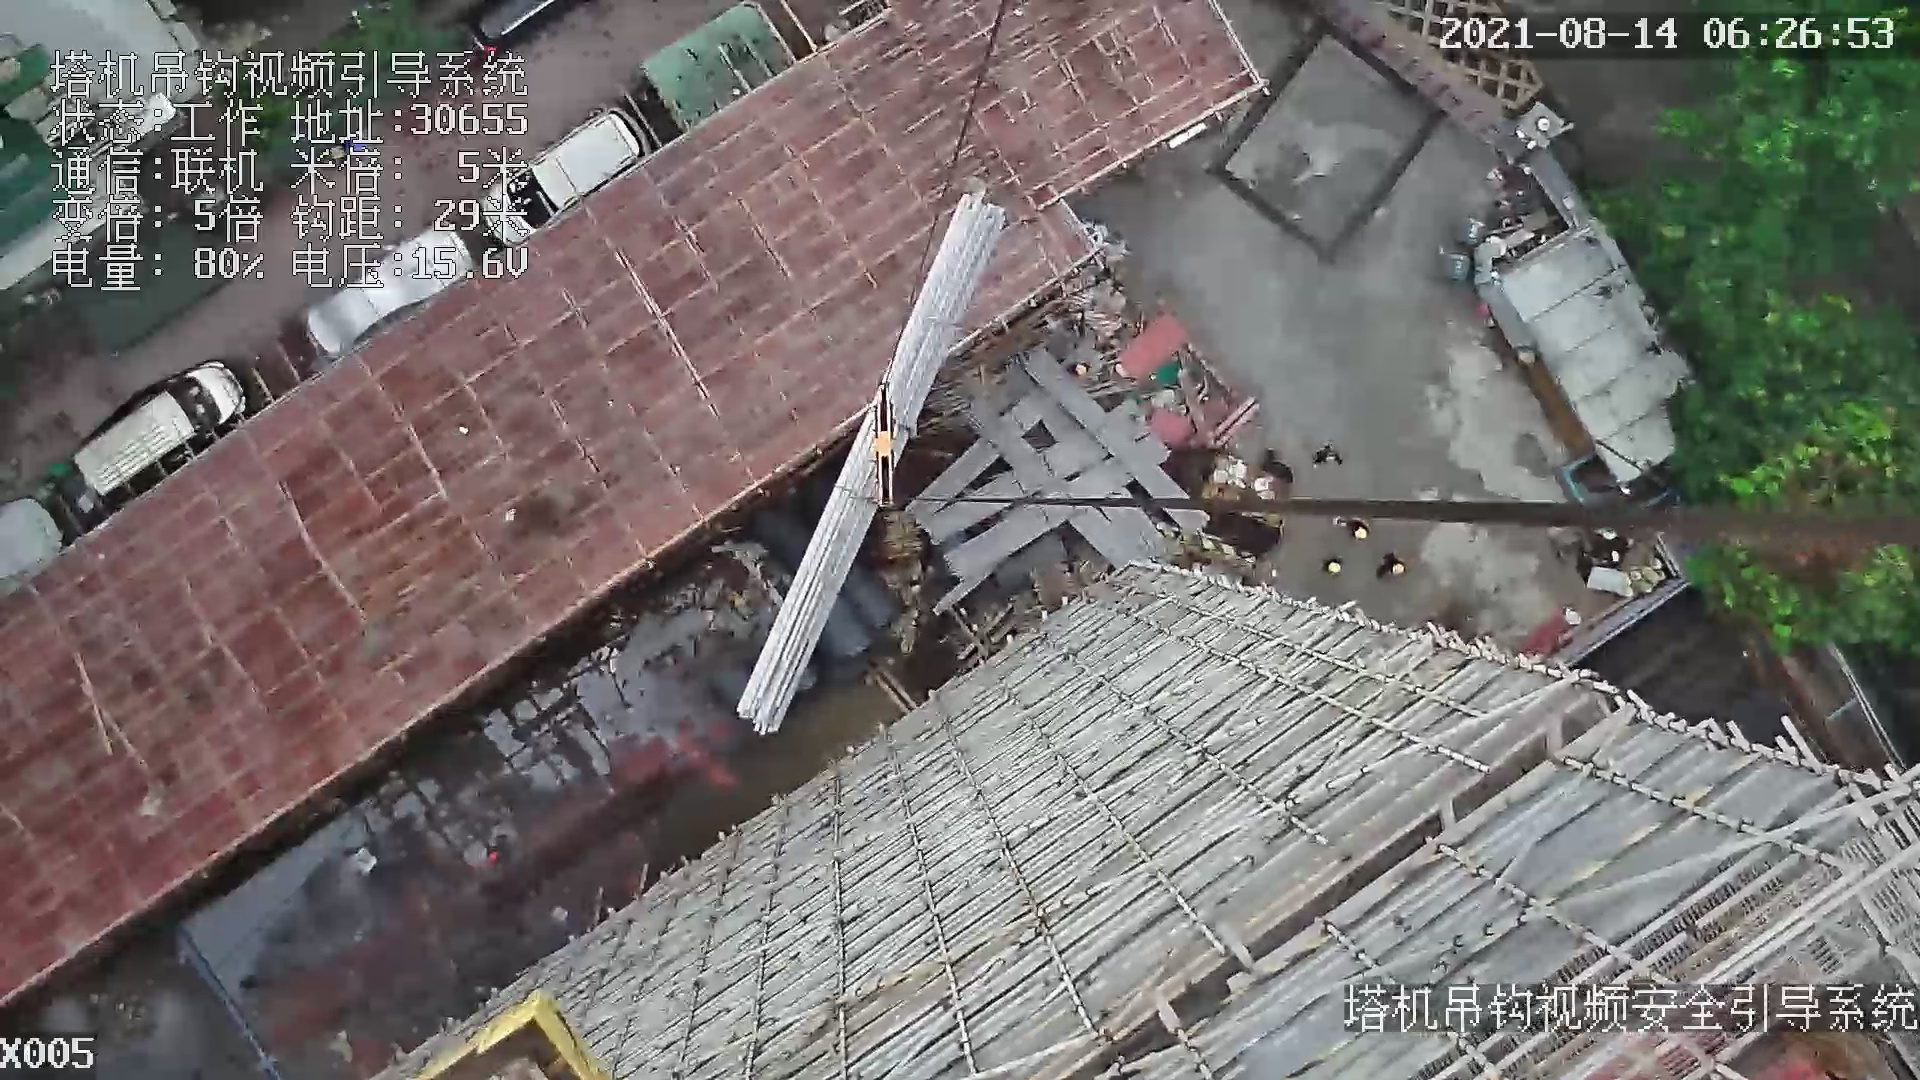helmet: (1390, 561, 1404, 576), (1354, 527, 1370, 539), (1328, 561, 1340, 573)
hook: (865, 374, 897, 510)
person: (1304, 437, 1347, 469), (1328, 513, 1370, 539), (1382, 549, 1404, 582), (1323, 547, 1342, 580)
